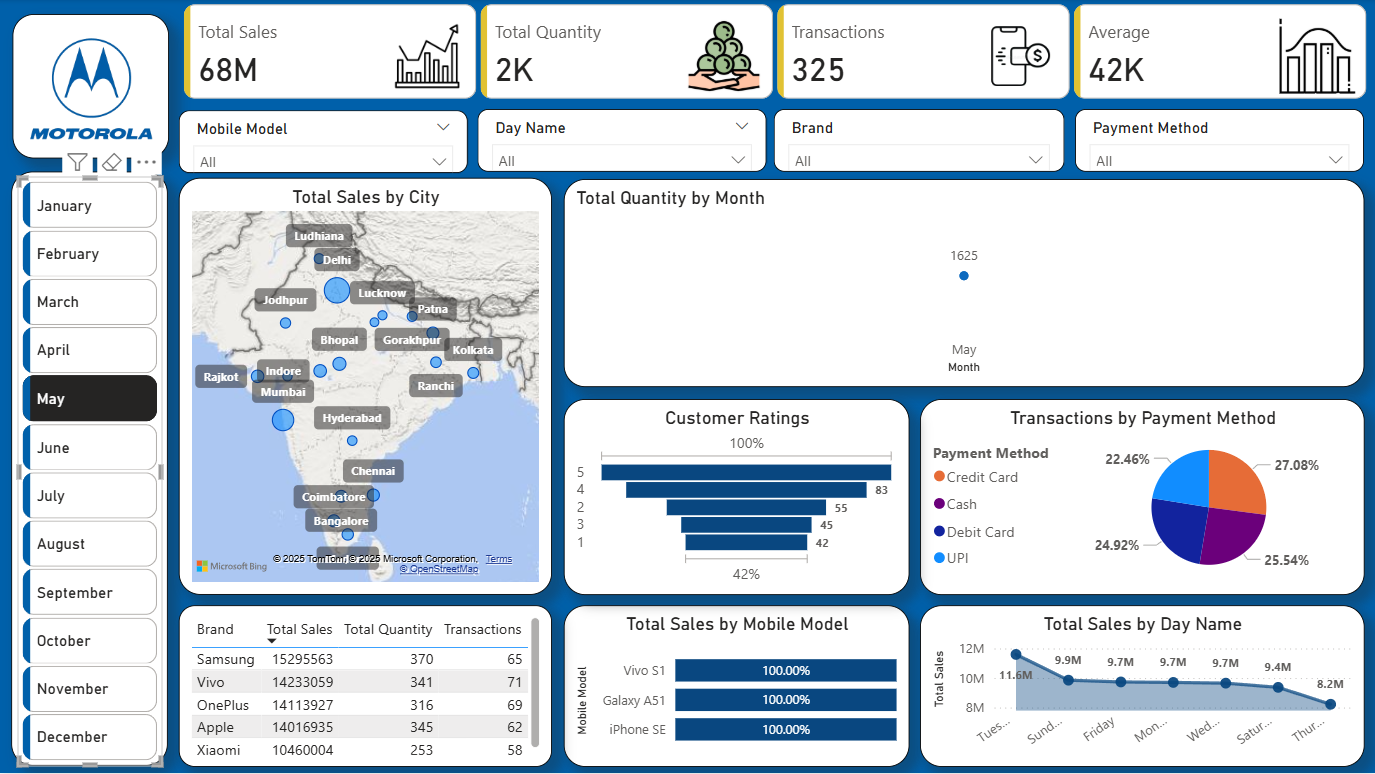

The dashboard page shown, as its layout file describes it:
{"tool":"powerbi","page":{"name":"Page 1","canvas":[1280,720],"ordinal":0},"visuals":[{"type":"shape","box":[12.1,13.4,145.2,134.5],"z":0},{"type":"image","box":[23.3,13.7,123.5,140],"z":1000},{"type":"shape","box":[10.8,160.8,145.9,552.7],"z":2000},{"type":"advancedSlicerVisual","fields":{"Values":["sales_data.Date.Variation.Date Hierarchy.Month"]},"box":[16.2,164.9,135.1,548.6],"z":3000},{"type":"cardVisual","fields":{"Data":["sales_data.Total Sales","sales_data.Total Quantity","sales_data.Transactions","sales_data.Average"]},"box":[166.2,0,1113.5,102.7],"z":4000},{"type":"map","fields":{"Category":["sales_data.City"],"Size":["sales_data.Total Sales"]},"box":[166.2,166.2,347.3,387.8],"z":5000},{"type":"lineChart","fields":{"Y":["sales_data.Total Quantity"],"Category":["sales_data.Date.Variation.Date Hierarchy.Month","sales_data.Date.Variation.Date Hierarchy.Day"]},"box":[524.3,167.6,744.6,193.2],"z":6000},{"type":"hundredPercentStackedBarChart","fields":{"Category":["sales_data.Mobile Model"],"Y":["sales_data.Total Sales"]},"box":[524.3,563.5,321.6,150],"z":7000},{"type":"pieChart","fields":{"Y":["sales_data.Transactions"],"Category":["sales_data.Payment Method"]},"box":[855.4,371.6,413.5,182.4],"z":8000},{"type":"funnel","title":"Customer Ratings ","fields":{"Category":["sales_data.Customer Ratings"],"Y":["CountNonNull(sales_data.Customer Ratings)"]},"box":[524.3,371.6,321.6,182.4],"z":9000},{"type":"areaChart","fields":{"Category":["sales_data.Day Name"],"Y":["sales_data.Total Sales"]},"box":[855.4,563.5,413.5,150],"z":10000},{"type":"tableEx","fields":{"Values":["sales_data.Brand","sales_data.Total Sales","sales_data.Total Quantity","sales_data.Transactions"]},"box":[166.2,563.5,347.3,150],"z":11000},{"type":"slicer","fields":{"Values":["sales_data.Mobile Model"]},"box":[166.2,104.1,268.9,58.1],"z":12000},{"type":"slicer","fields":{"Values":["sales_data.Day Name"]},"box":[444.6,102.7,268.9,58.1],"z":13000},{"type":"slicer","fields":{"Values":["sales_data.Payment Method"]},"box":[1000,102.7,268.9,58.1],"z":14000},{"type":"slicer","fields":{"Values":["sales_data.Brand"]},"box":[720.3,102.7,270.3,58.1],"z":15000}]}

Visuals, with their boxes in screenshot pixels (x1, y1, x2, y2):
shape: BBox(16, 14, 170, 157)
image: BBox(28, 15, 159, 163)
shape: BBox(15, 170, 170, 756)
advancedSlicerVisual - sales_data.Date.Variation.Date Hierarchy.Month: BBox(21, 175, 164, 756)
cardVisual - sales_data.Total Sales x sales_data.Total Quantity: BBox(180, 0, 1359, 109)
map - sales_data.City x sales_data.Total Sales: BBox(180, 176, 548, 587)
lineChart - sales_data.Total Quantity x sales_data.Date.Variation.Date Hierarchy.Month: BBox(559, 178, 1348, 382)
hundredPercentStackedBarChart - sales_data.Mobile Model x sales_data.Total Sales: BBox(559, 597, 900, 756)
pieChart - sales_data.Transactions x sales_data.Payment Method: BBox(910, 394, 1348, 587)
"Customer Ratings " funnel: BBox(559, 394, 900, 587)
areaChart - sales_data.Day Name x sales_data.Total Sales: BBox(910, 597, 1348, 756)
tableEx - sales_data.Brand x sales_data.Total Sales: BBox(180, 597, 548, 756)
slicer - sales_data.Mobile Model: BBox(180, 110, 465, 172)
slicer - sales_data.Day Name: BBox(475, 109, 759, 170)
slicer - sales_data.Payment Method: BBox(1063, 109, 1348, 170)
slicer - sales_data.Brand: BBox(767, 109, 1053, 170)
